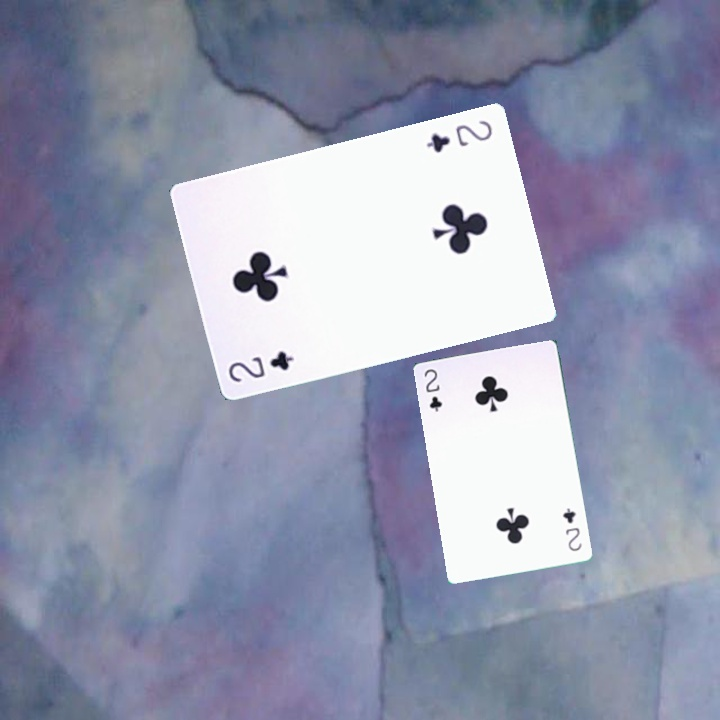2c: (422, 116, 495, 155), (224, 346, 297, 385), (559, 504, 584, 554), (420, 365, 445, 414)
